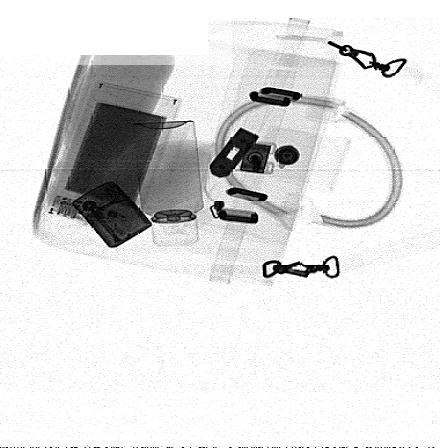Lighter: (71, 179, 153, 246)
Powerbank: (42, 79, 184, 236)
Sprayer: (132, 120, 205, 248)
